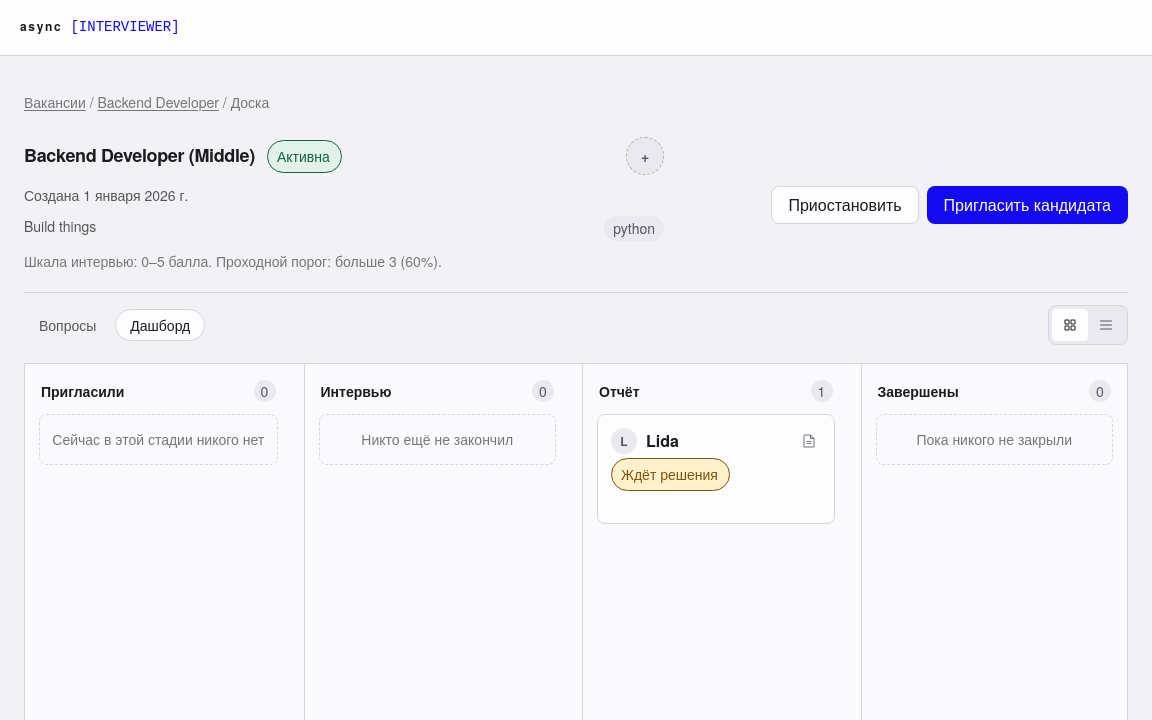
VacancyDetailClient › shows a waiting-decision pill in the list instead of a dash-only status
This screenshot has width=1152, height=720.
Click the button named "Список".
click(1106, 325)  # box [1088, 309, 1124, 341]
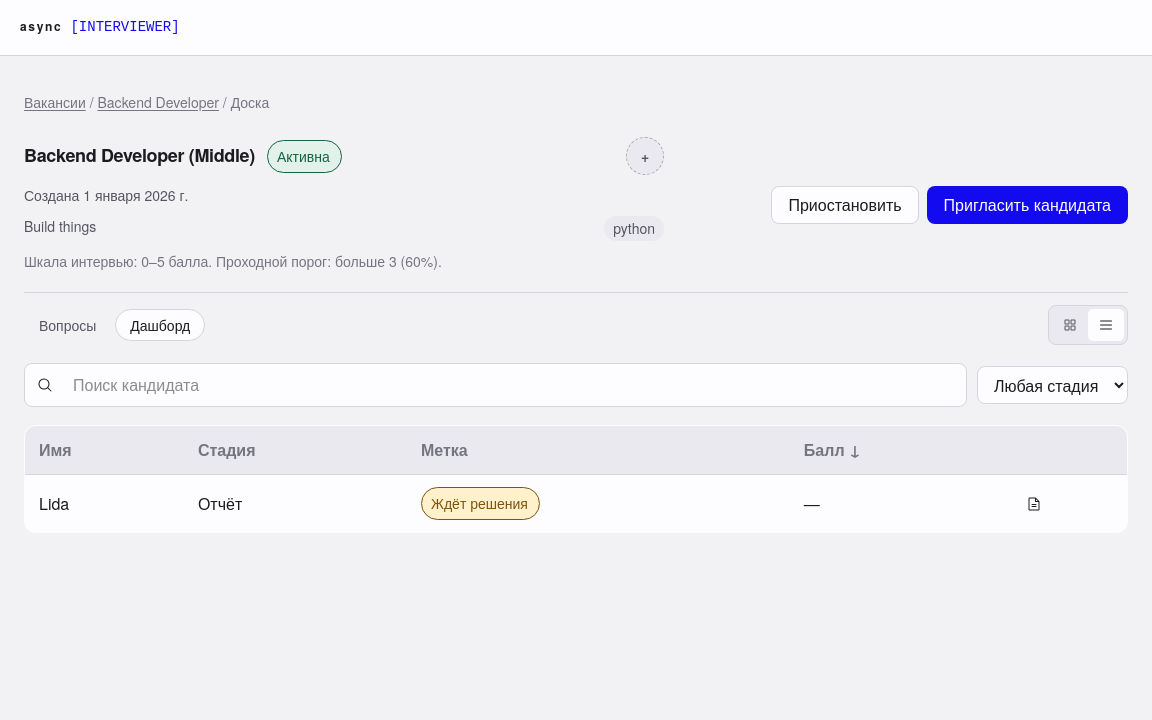
expect the column heading "Метка" is shown: met, box [407, 426, 790, 474]
expect the column heading "Балл ↓" is shown: met, box [790, 426, 1012, 474]
expect the row "Lida" shows "Отчёт": met, box [198, 492, 242, 514]
